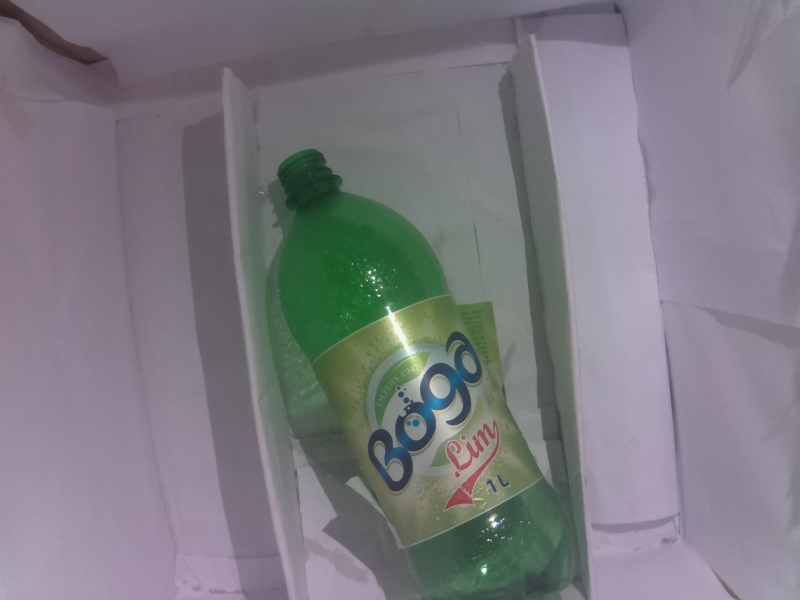botolplastik: (275, 149, 573, 600)
